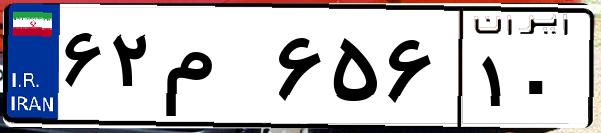0: (525, 38, 570, 115)
1: (475, 38, 525, 113)
2: (110, 28, 158, 98)
5: (330, 28, 385, 110)
6: (270, 28, 330, 110), (385, 28, 445, 110), (57, 26, 110, 100)
م: (158, 20, 270, 120)
